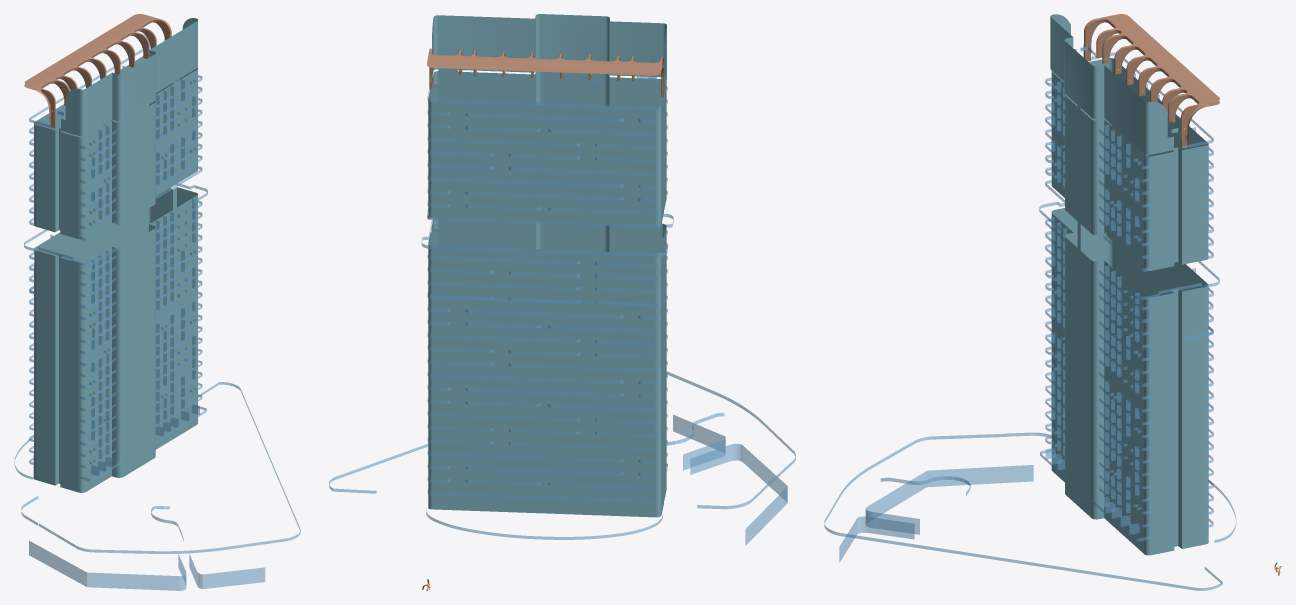
File: Velos_build_1.glb
3 renders of one model, left to right at view 1: azimuth 30°, elevation 25°; view 2: azimuth 150°, elevation 25°; view 3: azimuth 270°, elevation 25°, orthographic. The views are drawn at different scales.
Parts seen in each view (by area): view 1: Velos_build.001; view 2: Velos_build.001; view 3: Velos_build.001.
Part boxes in pixels (<box>): Velos_build.001: <box>14,14,300,590</box>; Velos_build.001: <box>329,14,795,590</box>; Velos_build.001: <box>824,14,1281,590</box>.
Bounding box in the file's own units: 128 × 188 × 156.
